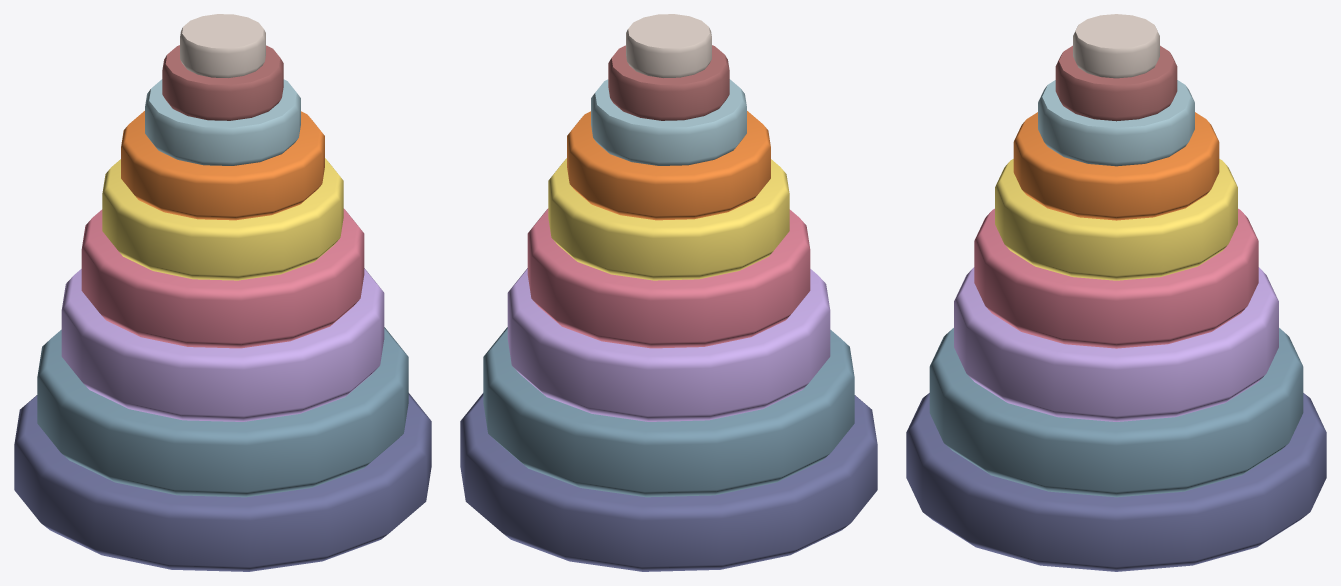
The model's file is Toy_Pyramid.glb.
The picture shows the model from 3 angles, left to right: view 1: azimuth 30°, elevation 25°; view 2: azimuth 150°, elevation 25°; view 3: azimuth 270°, elevation 25°; orthographic projection.
Visible parts, largest first — view 1: Toy_Pyramid; view 2: Toy_Pyramid; view 3: Toy_Pyramid.
Boxes of the visible parts, bbox=[...] form: Toy_Pyramid: bbox=[14, 14, 431, 571]; Toy_Pyramid: bbox=[460, 14, 877, 571]; Toy_Pyramid: bbox=[906, 14, 1326, 571].
Size of the model in its own units: 0.343 by 0.4112 by 0.343.
1 material, 1 textured.
